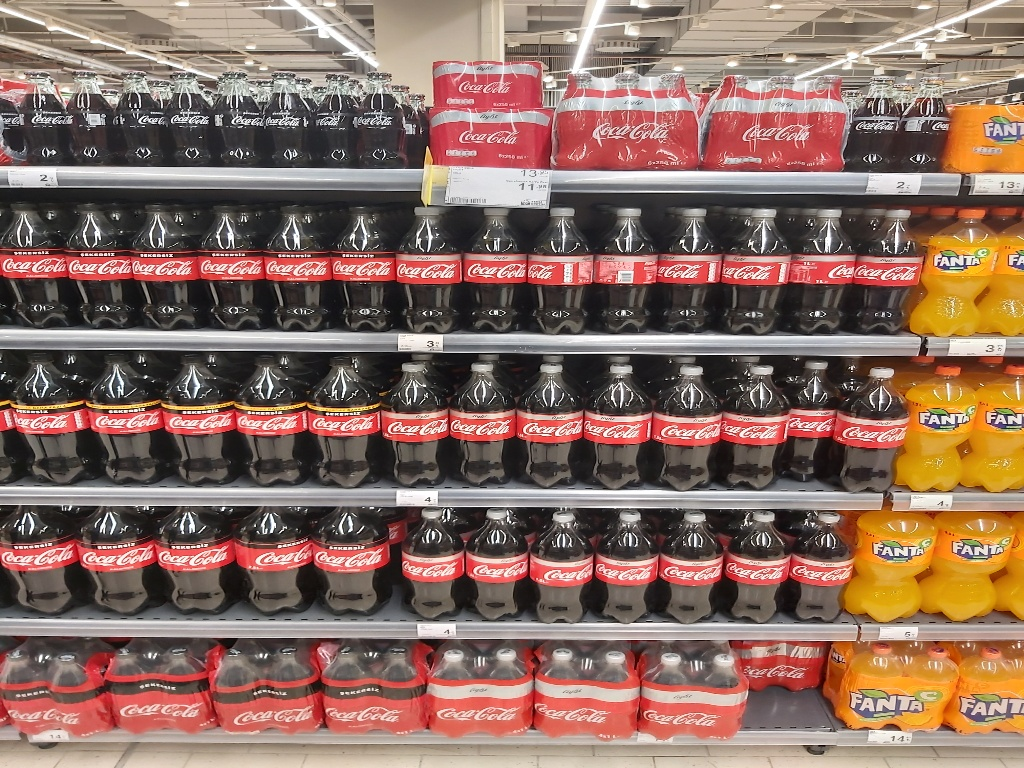urun: (700, 64, 851, 168), (550, 67, 701, 170), (838, 640, 956, 730), (14, 352, 86, 485), (88, 347, 160, 480), (161, 348, 233, 481), (375, 355, 447, 488), (444, 353, 516, 486), (518, 353, 590, 486), (582, 356, 654, 489), (654, 357, 726, 490), (724, 357, 796, 490), (922, 202, 993, 335), (232, 346, 303, 479), (305, 352, 376, 485), (908, 353, 975, 489), (129, 192, 195, 329), (193, 196, 259, 333), (257, 193, 323, 330), (591, 198, 657, 335), (719, 201, 785, 338), (321, 639, 428, 723), (215, 641, 320, 726), (532, 646, 637, 731), (67, 193, 132, 330), (334, 192, 399, 329), (398, 196, 463, 333), (461, 193, 526, 330), (525, 201, 590, 338), (653, 201, 718, 338), (795, 198, 860, 335), (858, 207, 923, 344), (929, 515, 1006, 630), (106, 639, 211, 723), (424, 643, 529, 727), (643, 648, 748, 732), (1, 200, 65, 337), (840, 355, 901, 497), (1, 643, 102, 728), (314, 511, 389, 617), (4, 503, 78, 609), (82, 507, 156, 613), (156, 506, 230, 612), (233, 508, 307, 614), (855, 513, 925, 622), (426, 109, 553, 166), (428, 58, 554, 115), (398, 509, 461, 617), (468, 508, 531, 616), (532, 508, 595, 616), (600, 512, 663, 620), (658, 516, 721, 623), (788, 516, 851, 623), (726, 515, 788, 622), (788, 356, 835, 492), (983, 347, 1024, 497), (951, 648, 1024, 730), (893, 70, 951, 172), (849, 68, 906, 169), (954, 93, 1024, 168), (116, 63, 164, 161), (312, 63, 360, 161), (63, 64, 110, 163), (214, 64, 261, 163), (357, 61, 404, 160), (164, 67, 211, 165), (261, 67, 308, 165)
urun2: (15, 65, 63, 164)
